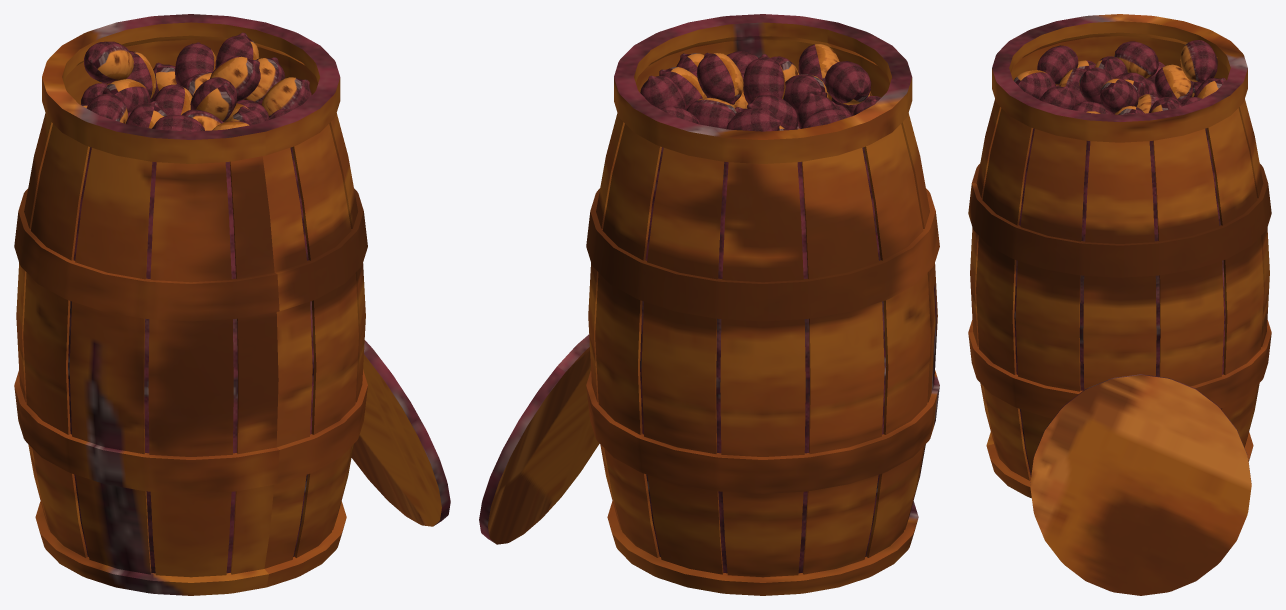
File: fruit barrel_8.fbx
3 views of the same model, side by side, from view 1: azimuth 30°, elevation 25°; view 2: azimuth 150°, elevation 25°; view 3: azimuth 270°, elevation 25° (orthographic). The views are drawn at different scales.
Visible parts, largest first — view 1: Circle.014, Circle.017, Plane.1423, Plane.1427, Plane.1421, Plane.1402, Plane.1404, Plane.1417, Plane.1414, Plane.1422, Plane.1410, Plane.1424 (+3 smaller); view 2: Circle.014, Circle.017, Plane.1421, Plane.1413, Plane.1427, Plane.1410, Plane.1416, Plane.1419, Plane.1423, Plane.1418, Plane.1422, Plane.1414 (+1 smaller); view 3: Circle.014, Circle.017, Plane.1423, Plane.1424, Plane.1417, Plane.1413, Plane.1421, Plane.1427, Plane.1419, Plane.1425, Plane.1418, Plane.1412 (+1 smaller).
Part boxes in pixels (box(x1,y1,x2,y2)): Circle.014: box(14, 14, 367, 595); Circle.017: box(351, 340, 450, 526); Plane.1423: box(84, 41, 133, 83); Plane.1427: box(190, 77, 237, 121); Plane.1421: box(210, 55, 260, 101); Plane.1402: box(262, 77, 311, 117); Plane.1404: box(175, 42, 216, 85); Plane.1417: box(102, 79, 150, 111); Plane.1414: box(243, 57, 284, 104); Plane.1422: box(153, 84, 192, 115); Plane.1410: box(215, 32, 259, 68); Plane.1424: box(87, 93, 127, 123); Circle.014: box(586, 14, 939, 595); Circle.017: box(479, 334, 599, 544); Plane.1421: box(696, 52, 743, 104); Plane.1413: box(824, 61, 871, 105); Plane.1427: box(743, 54, 785, 103); Plane.1410: box(640, 75, 686, 109); Plane.1416: box(686, 97, 736, 128); Plane.1419: box(798, 44, 839, 91); Plane.1423: box(726, 108, 780, 131); Plane.1418: box(783, 74, 827, 113); Plane.1422: box(747, 95, 797, 130); Plane.1414: box(659, 67, 706, 110); Circle.014: box(968, 14, 1271, 498); Circle.017: box(1030, 374, 1251, 595); Plane.1423: box(1180, 40, 1217, 83); Plane.1424: box(1114, 41, 1158, 78); Plane.1417: box(1154, 64, 1192, 100); Plane.1413: box(1037, 45, 1078, 85); Plane.1421: box(1100, 78, 1138, 114); Plane.1427: box(1079, 67, 1114, 104); Plane.1419: box(1014, 70, 1055, 99); Plane.1425: box(1040, 86, 1075, 109); Plane.1418: box(1059, 68, 1086, 105); Plane.1412: box(1095, 56, 1127, 78).
Size of the model in its own units: 45.26 by 57.17 by 35.65.
